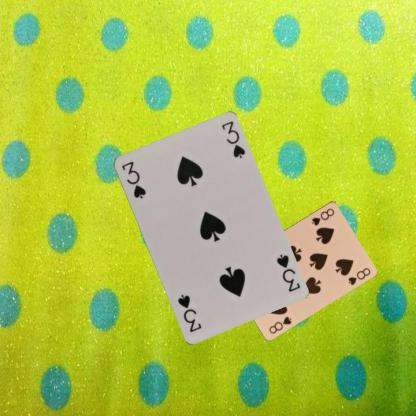3s: (118, 158, 147, 200), (273, 251, 302, 293)
8s: (309, 205, 336, 227), (266, 314, 293, 334)
